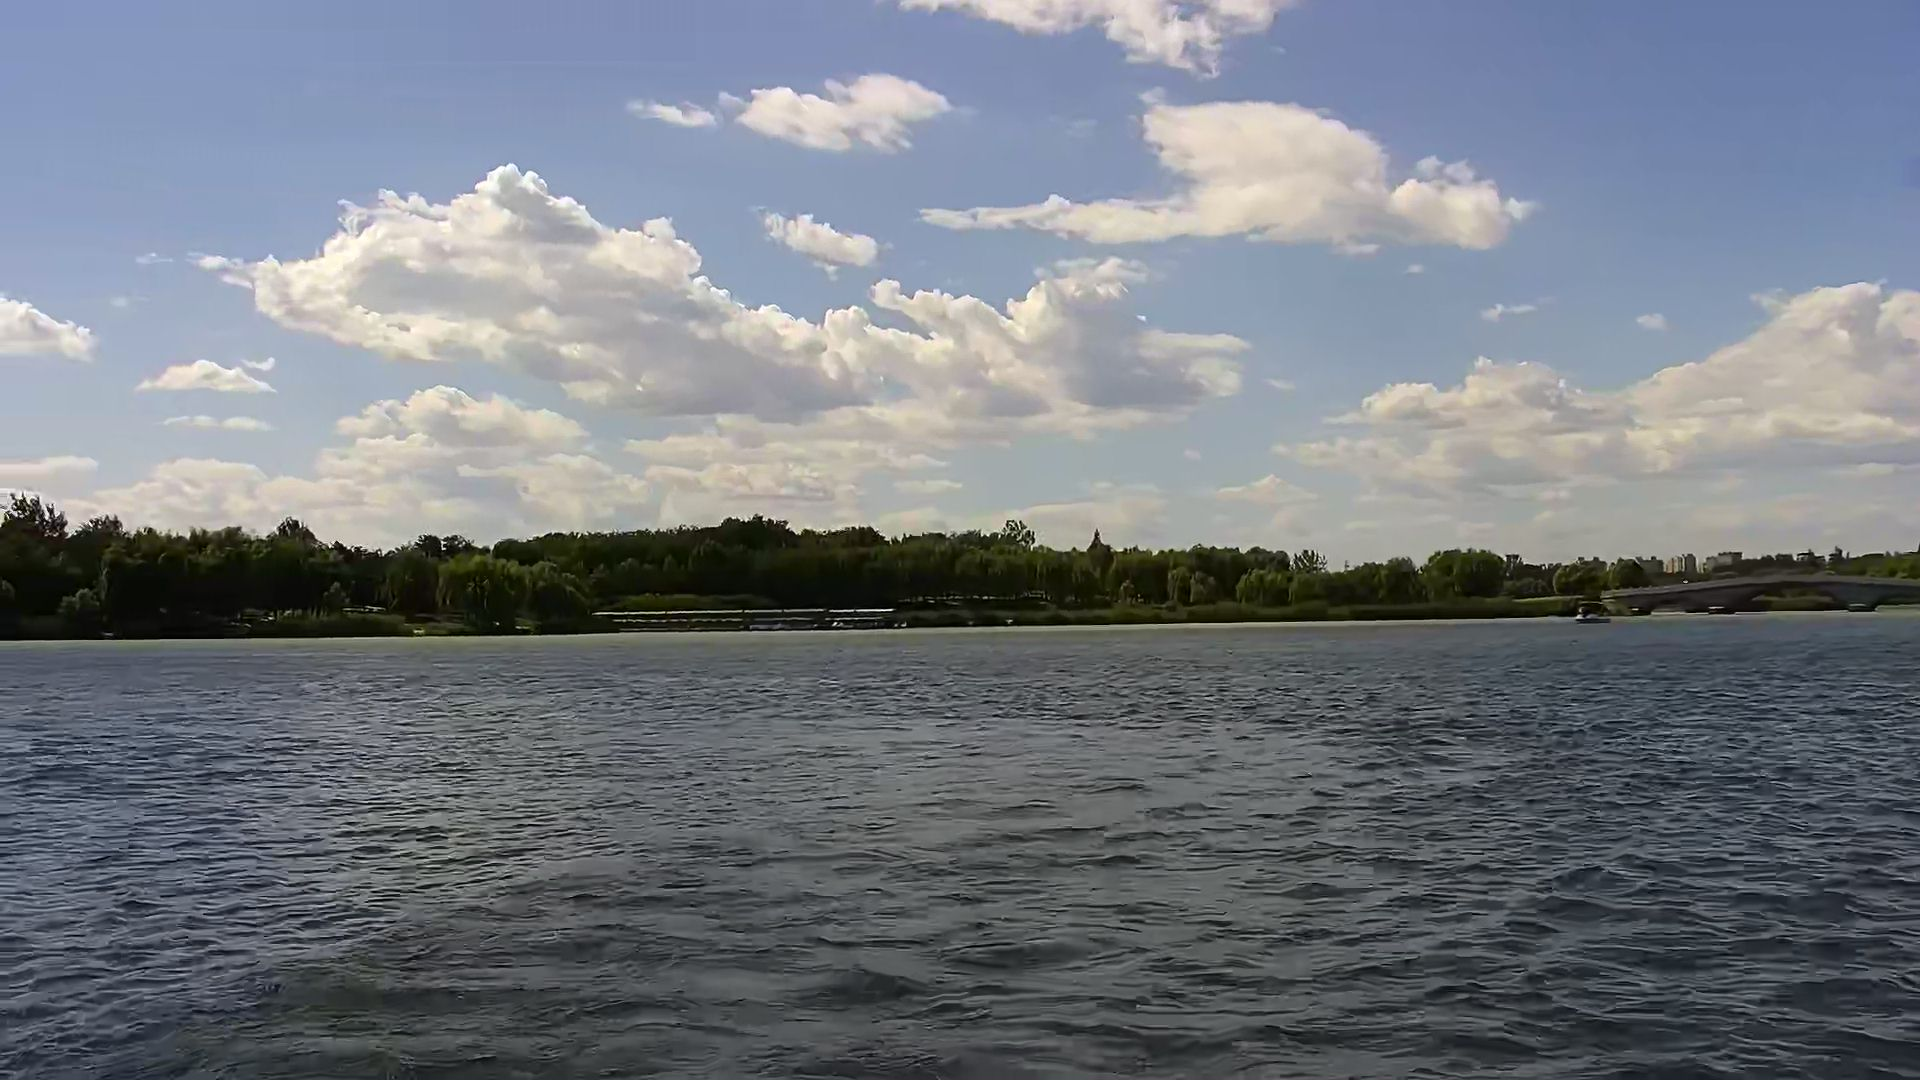boat: (1578, 603, 1611, 626)
bridge: (1600, 574, 1920, 611), (595, 607, 895, 629)
